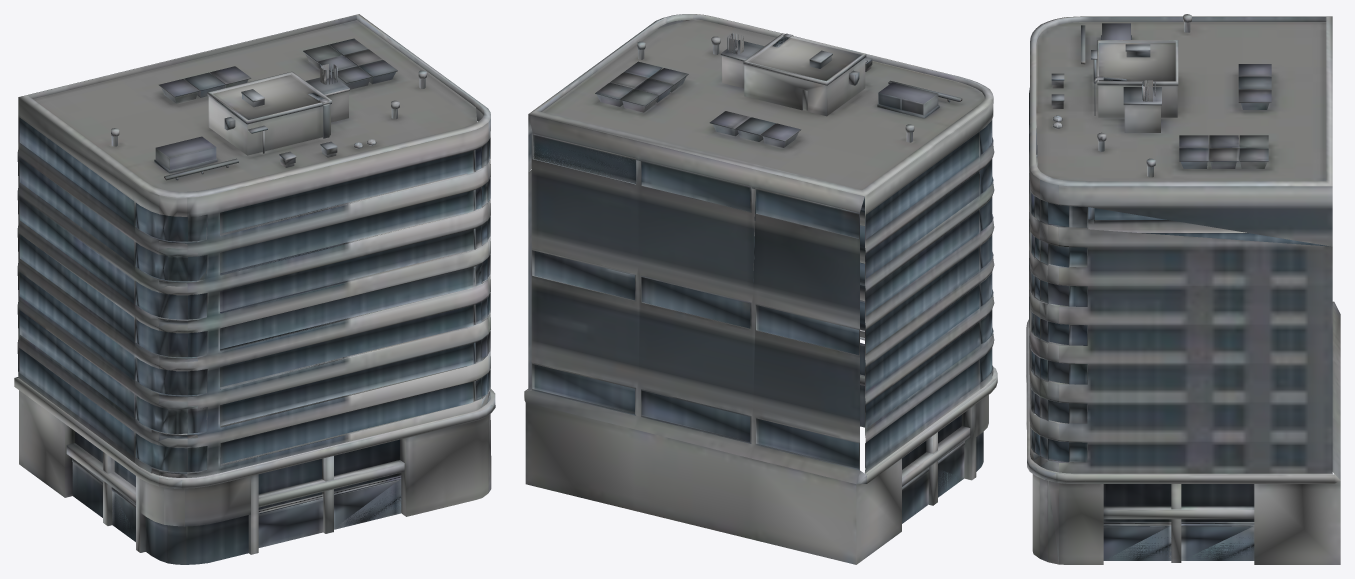
Rendered from city-corner-office.glb.
3 renders of one model, left to right at view 1: azimuth 30°, elevation 25°; view 2: azimuth 150°, elevation 25°; view 3: azimuth 270°, elevation 25°, orthographic. The views are drawn at different scales.
Parts seen in each view (by area): view 1: Corner office; view 2: Corner office; view 3: Corner office.
Part boxes in pixels (x1,y1,x2,y2): Corner office: (14,14,495,564); Corner office: (524,14,997,564); Corner office: (1026,14,1340,564).
Bounding box in the file's own units: 0.877 × 0.998 × 0.6738.
1 material, 1 textured.
